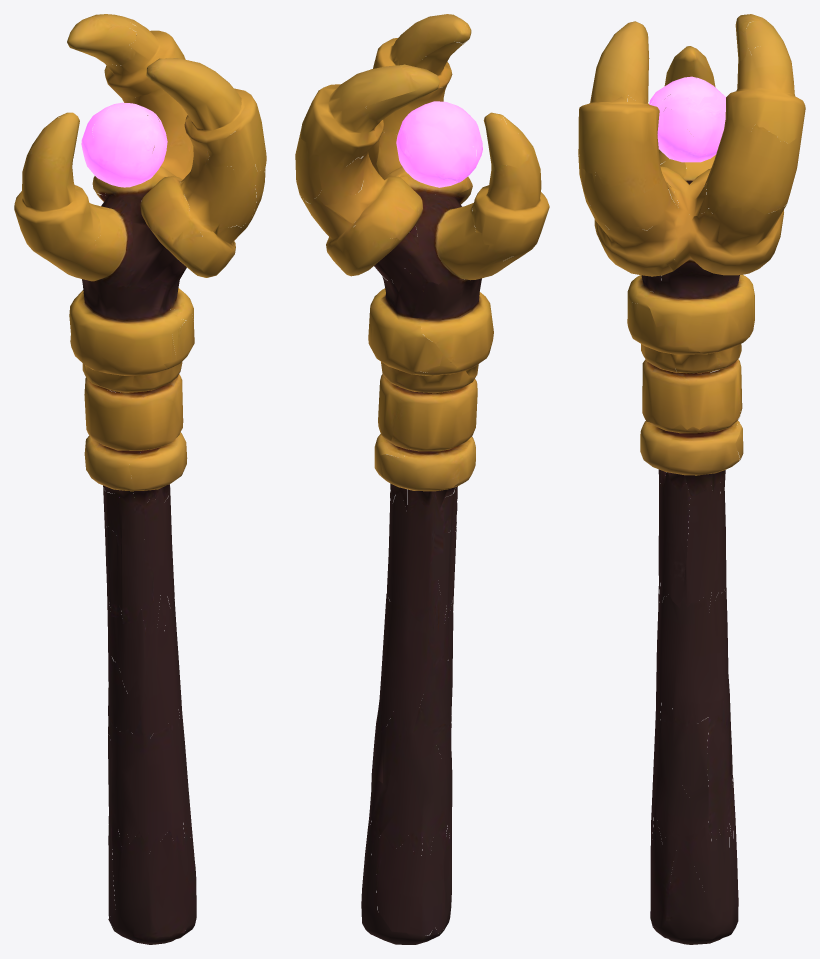
File: Arm_sorcerer_staff-K1C8xZSS.glb
3 renders of one model, left to right at view 1: azimuth 30°, elevation 25°; view 2: azimuth 150°, elevation 25°; view 3: azimuth 270°, elevation 25°, orthographic.
Parts seen in each view (by area): view 1: Arm_sorcerer_staff; view 2: Arm_sorcerer_staff; view 3: Arm_sorcerer_staff.
Boxes of the visible parts, box(x1,y1,x2,y2) form: Arm_sorcerer_staff: box(14, 14, 266, 944); Arm_sorcerer_staff: box(295, 14, 549, 944); Arm_sorcerer_staff: box(578, 14, 805, 944).
Size of the model in its own units: 0.5703 by 2.3 by 0.5227.
Materials: 1 (1 with a texture image).
